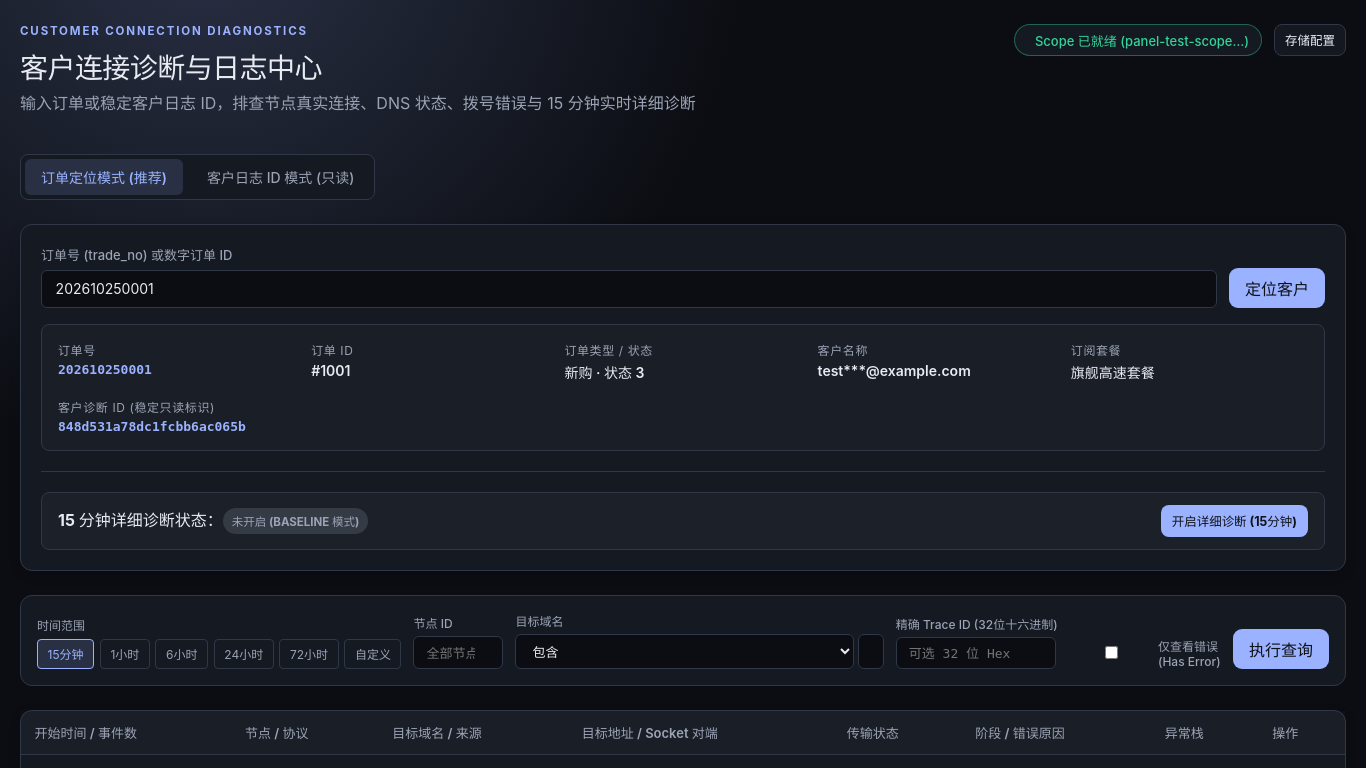
Test: CustomerDiagnosticsPage › queries connections, renders table, and opens drawer with timeline and stack trace
Expected: the element named "客户诊断身份卡" is shown, [41, 324, 1325, 451]
Note: Click query button
Click the button "执行查询" at (1281, 649), box [1233, 629, 1329, 669]
(page scrolled)
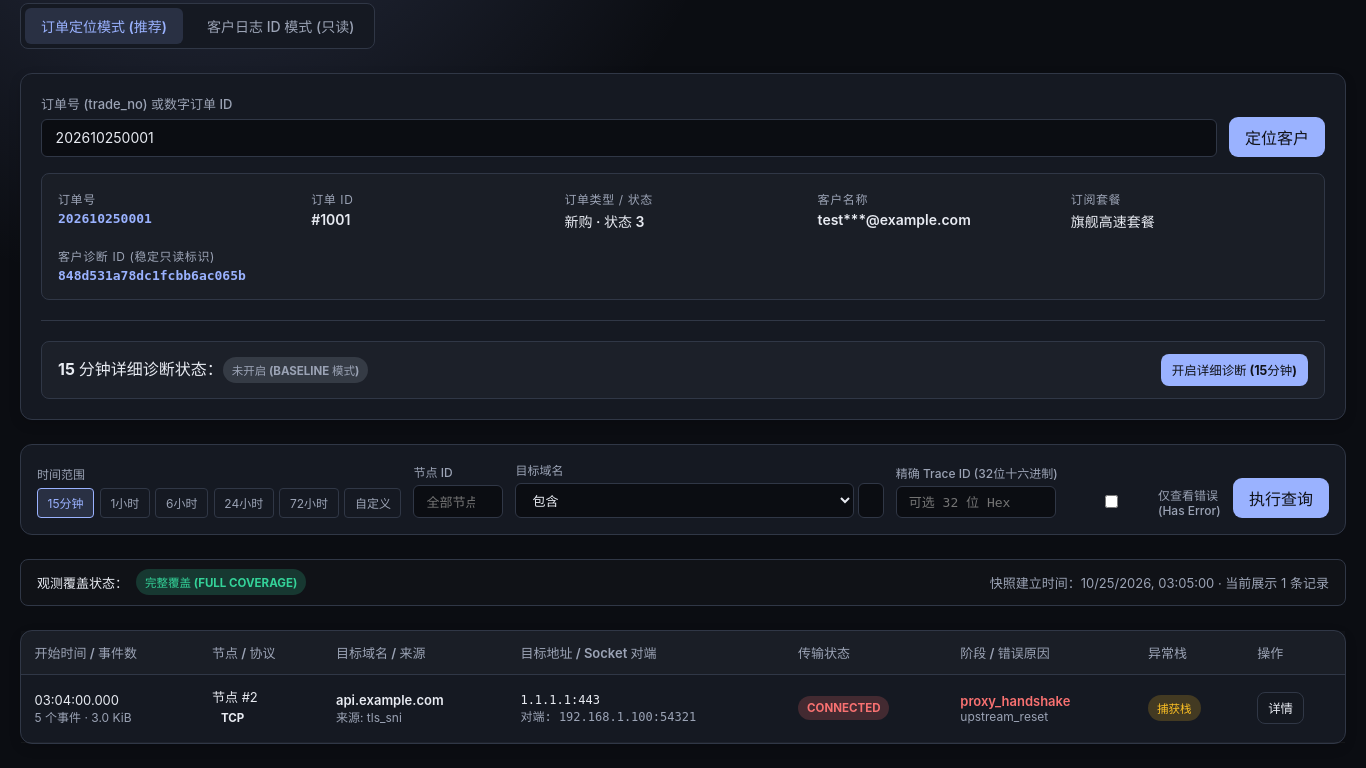
Expected: the text "api.example.com" is shown, [336, 692, 444, 708]
Expected: the text "upstream_reset" is shown, [960, 709, 1048, 724]
Expected: the text "proxy_handshake" is shown, [960, 693, 1070, 709]
Note: Click drawer button
Click the button "详情" at (1281, 708), box [1257, 692, 1304, 724]
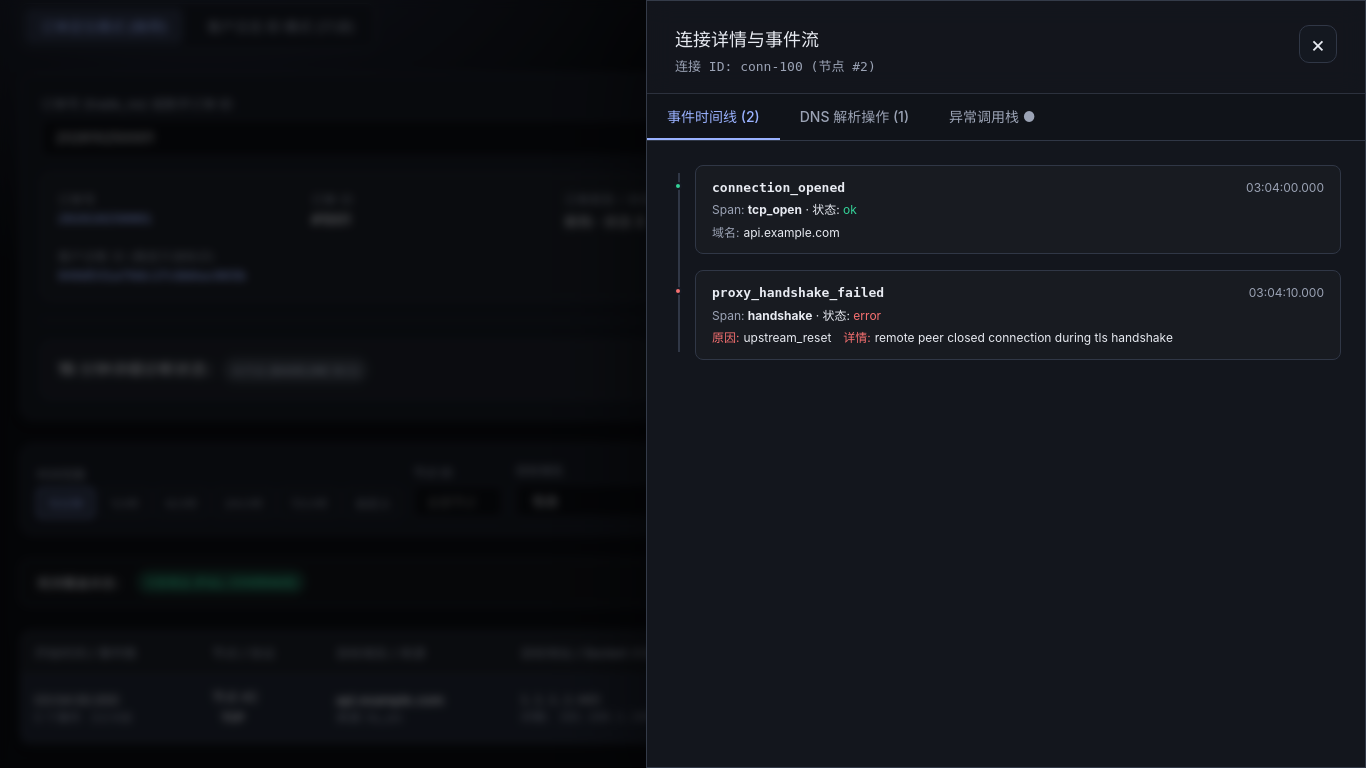
Expected: the element labelled "连接详情与事件流" is shown, [646, 0, 1365, 767]
Expected: the text "remote peer closed connection during tls handshake" is shown, [875, 330, 1173, 345]
Note: Switch drawer tabs: DNS & Stack trace
Click the button "DNS 解析操作 (1)" at (854, 117), box [780, 94, 929, 140]
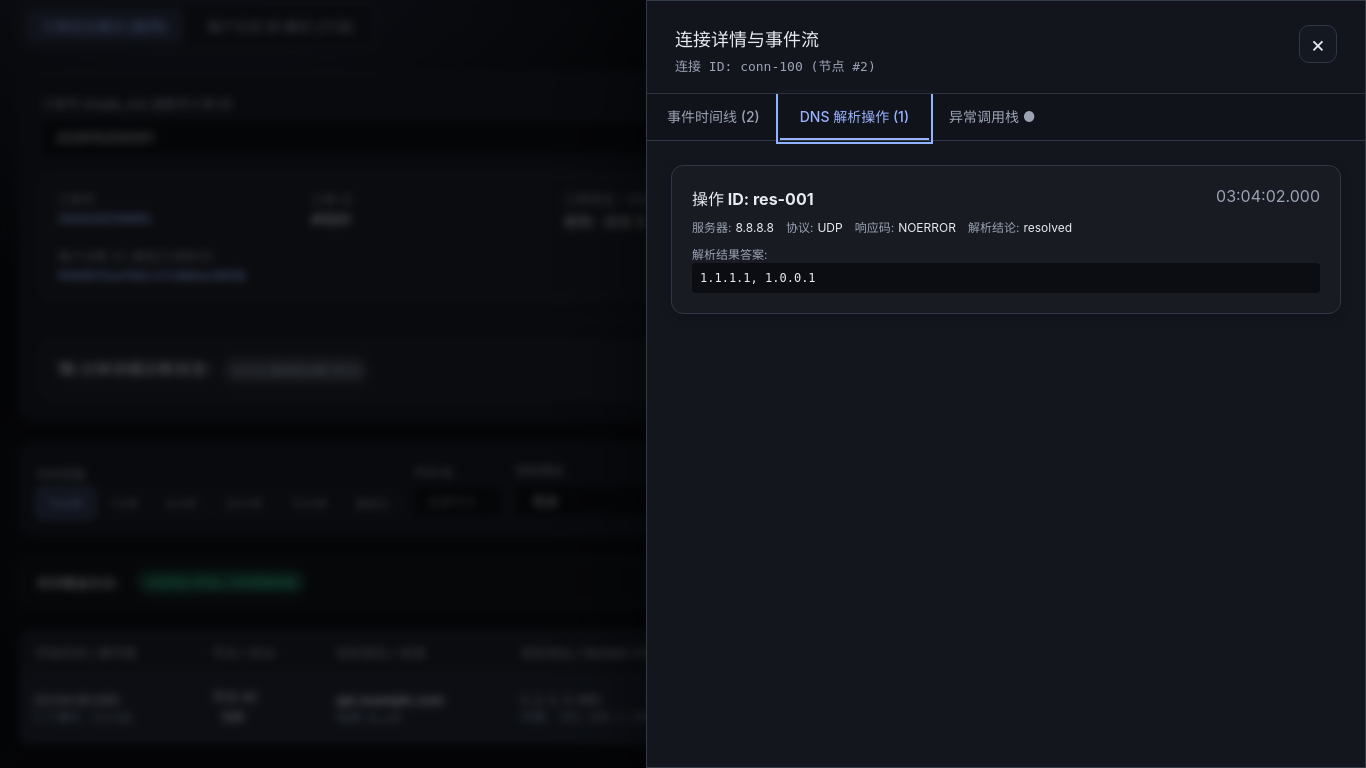
Expected: the text "1.1.1.1, 1.0.0.1" is shown, [692, 263, 1320, 293]
Click the button "异常调用栈 ●" at (992, 117), box [929, 94, 1056, 140]
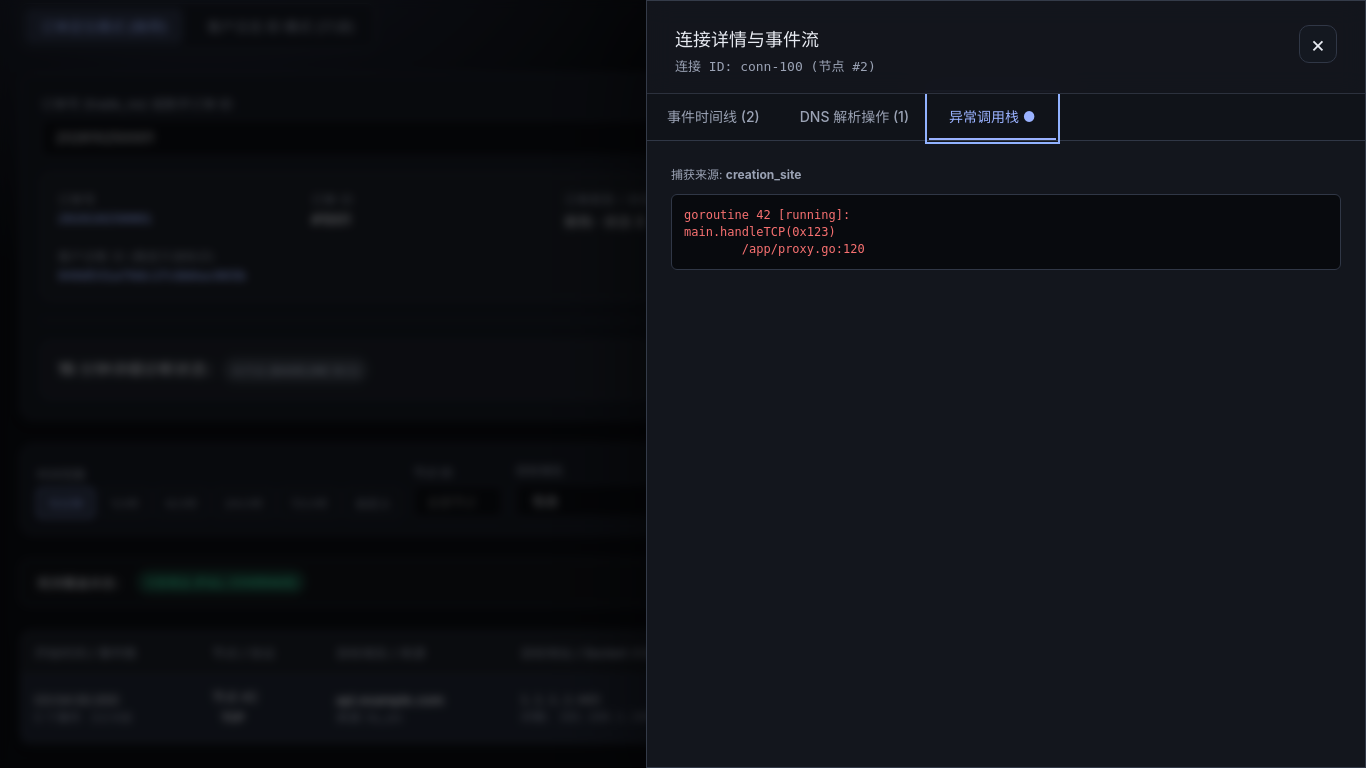
Expected: the text "main.handleTCP" is shown, [684, 208, 865, 256]
Note: Close drawer
Click the button named "关闭详情抽屉" at (1318, 44), box [1299, 25, 1337, 63]
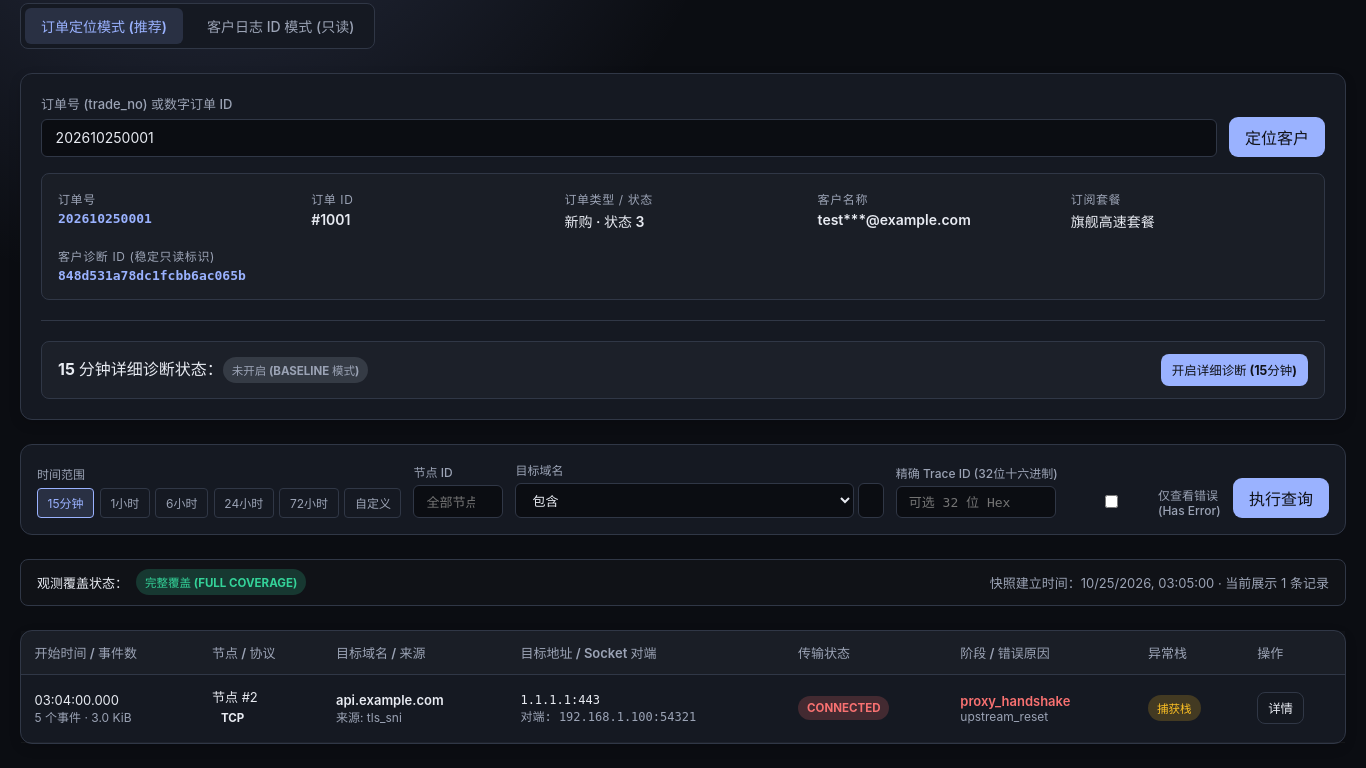
Expected: the heading labelled "连接详情与事件流" is gone
